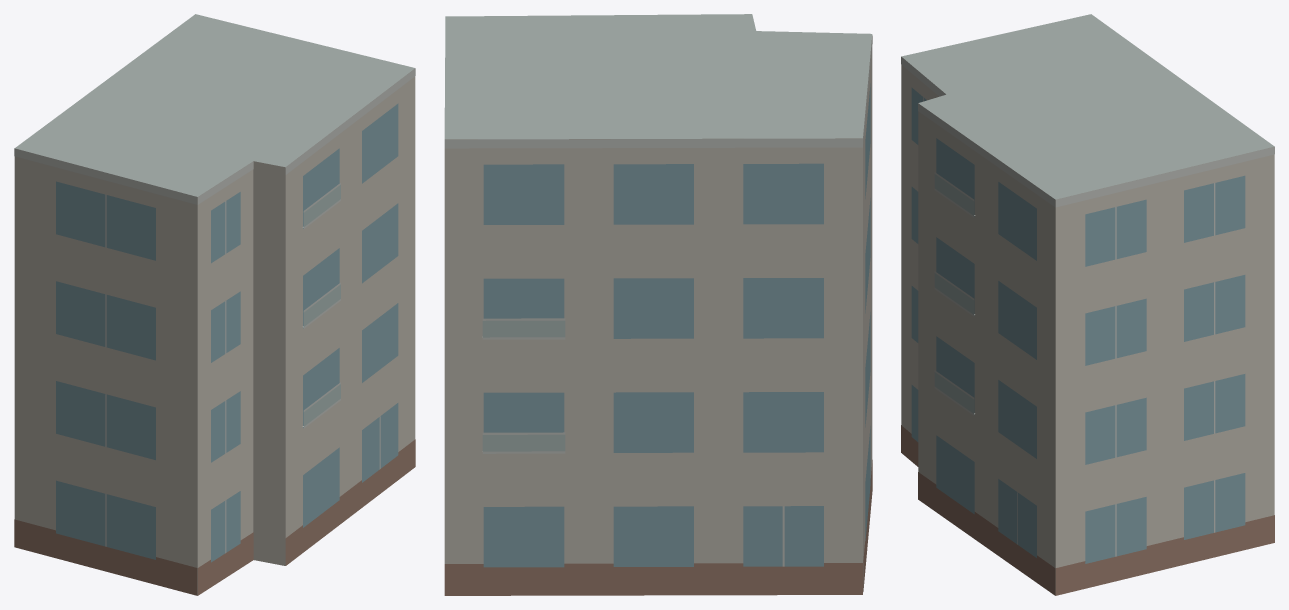
File: survey-upis-32468874.glb
3 renders of one model, left to right at view 1: azimuth 30°, elevation 25°; view 2: azimuth 150°, elevation 25°; view 3: azimuth 270°, elevation 25°, orthographic. The views are drawn at different scales.
Parts seen in each view (by area): view 1: survey-upis-32468874.tmp; view 2: survey-upis-32468874.tmp; view 3: survey-upis-32468874.tmp.
Part boxes in pixels (<box>): survey-upis-32468874.tmp: <box>14,14,415,595</box>; survey-upis-32468874.tmp: <box>444,14,872,595</box>; survey-upis-32468874.tmp: <box>901,14,1274,595</box>.
Size of the model in its own units: 12.27 by 12.2 by 10.43.
